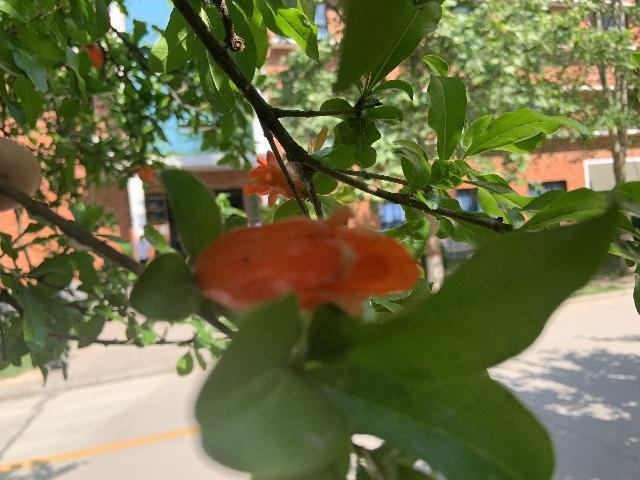flower: (194, 205, 422, 320), (243, 153, 303, 207)
